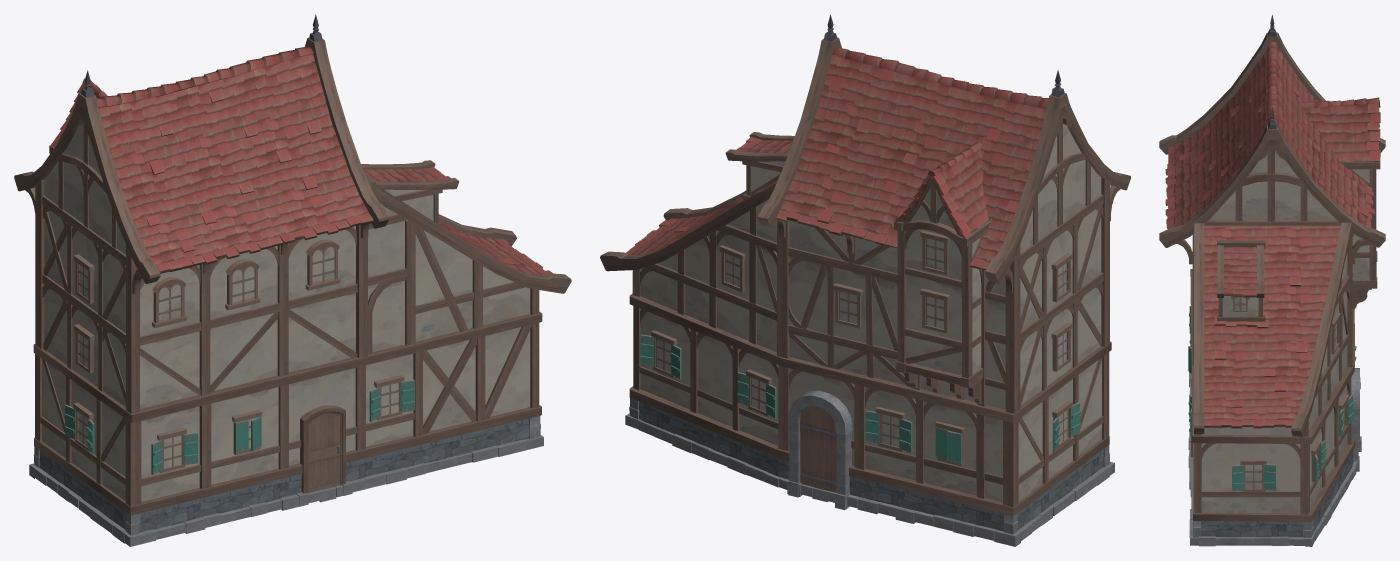
Rendered from Homeworld_Exterior_Md_Build_House_04_Lod0.fbx.
3 views of the same model, side by side, from view 1: azimuth 30°, elevation 25°; view 2: azimuth 150°, elevation 25°; view 3: azimuth 270°, elevation 25° (orthographic). The views are drawn at different scales.
Parts seen in each view (by area): view 1: Area_MdBuild_House21_Lod0; view 2: Area_MdBuild_House21_Lod0; view 3: Area_MdBuild_House21_Lod0.
Part boxes in pixels (box(x1,y1,x2,y2)): Area_MdBuild_House21_Lod0: box(14, 14, 571, 546); Area_MdBuild_House21_Lod0: box(600, 14, 1130, 546); Area_MdBuild_House21_Lod0: box(1159, 15, 1385, 546).
Size of what is drawn, in the model's own units: 16.95 by 15.82 by 8.8.
